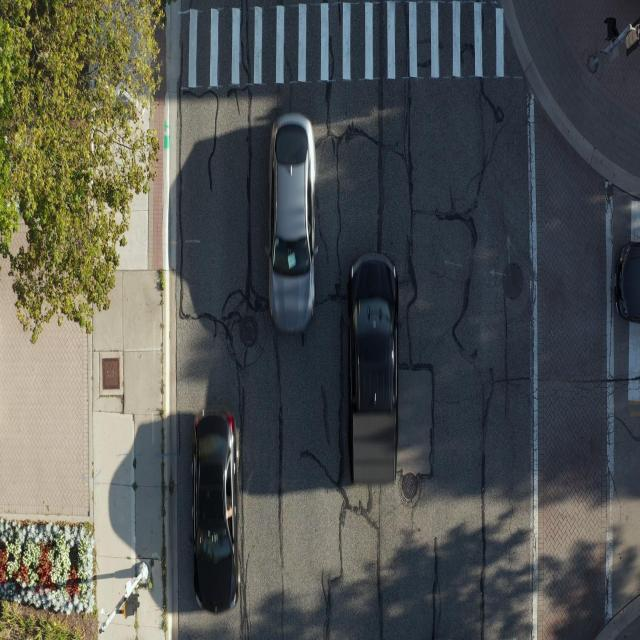Car: (340, 236, 408, 512), (268, 115, 318, 333), (192, 410, 241, 611), (613, 242, 640, 322)
